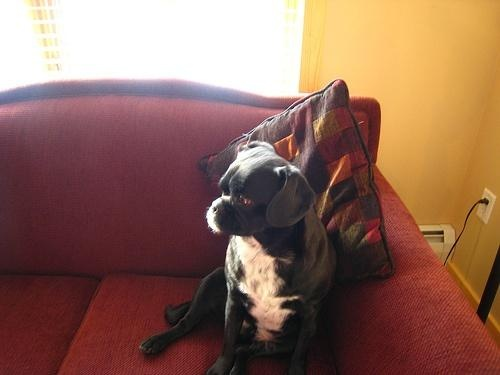dog: (141, 139, 340, 375)
sofa: (2, 78, 500, 375)
